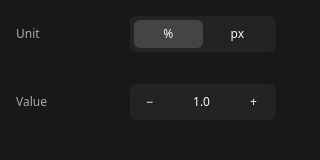
UnitValue › Nhập dấu phẩy sẽ tự động thành dấu chấm
Replace the text in the field with "12,3" at (202, 102), box [169, 84, 234, 120]
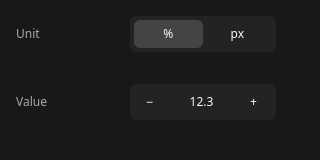
Result: the field holds "12.3" at [169, 84, 234, 120]
